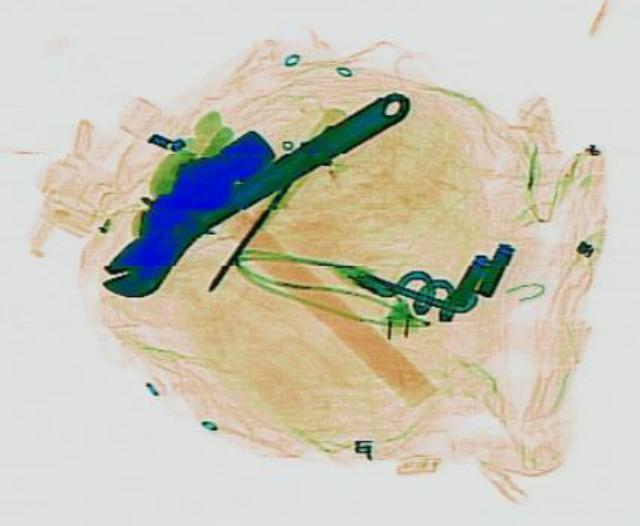Wrench: (78, 75, 430, 306)
